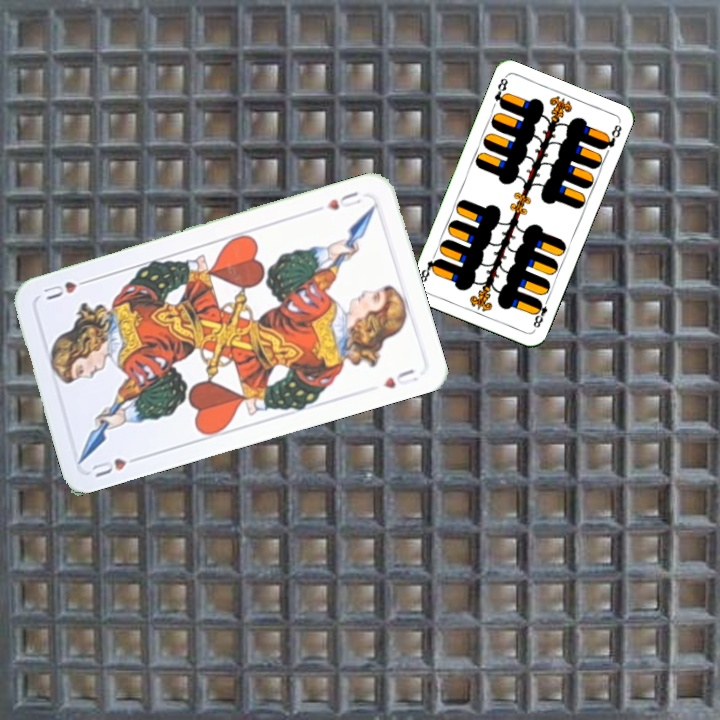E8: (529, 294, 552, 330), (490, 73, 511, 111)
HU: (87, 451, 145, 480), (323, 187, 365, 213)
